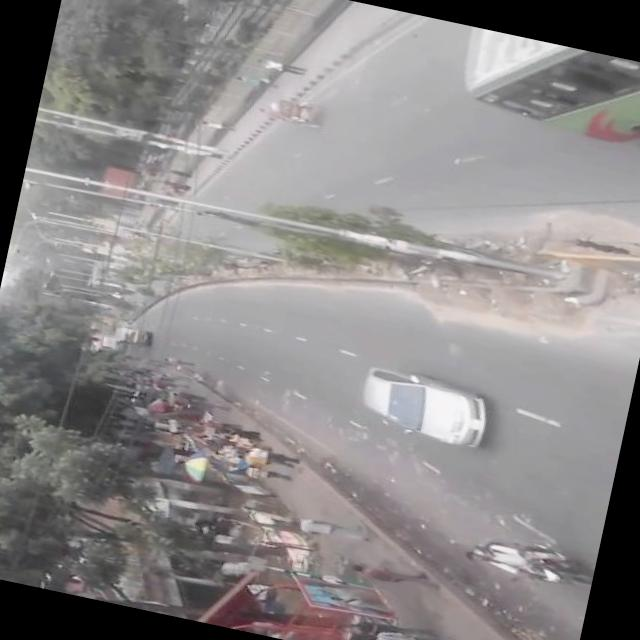bus: (447, 23, 640, 155), (109, 319, 153, 348)
car: (351, 358, 499, 450)
motorcycle: (459, 524, 596, 596), (254, 88, 330, 130)
